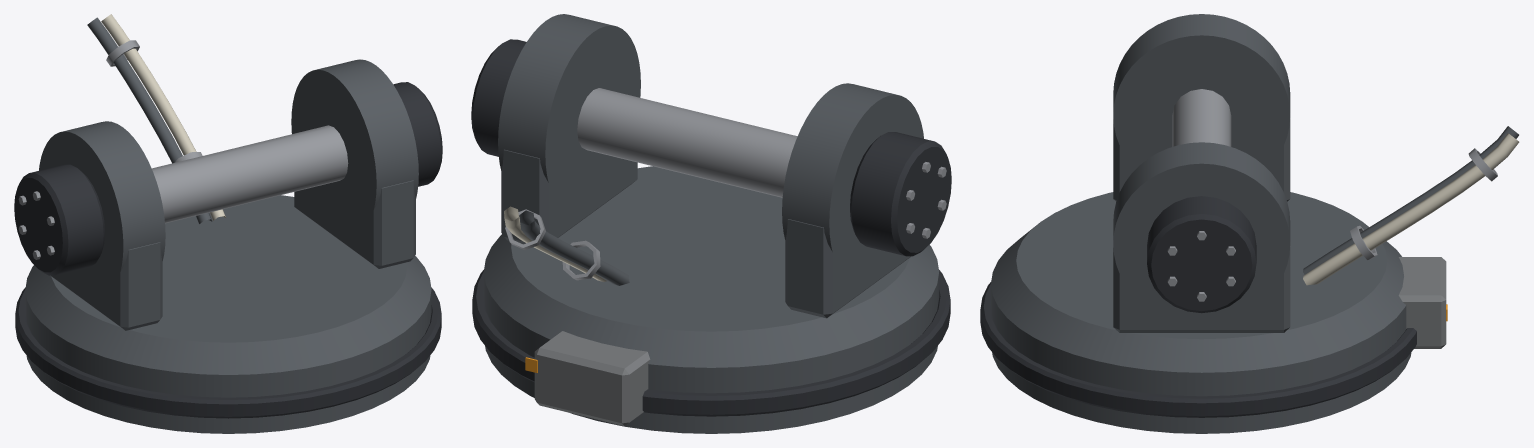
File: pd1_mount.obj
3 views of the same model, side by side, from view 1: azimuth 30°, elevation 25°; view 2: azimuth 150°, elevation 25°; view 3: azimuth 270°, elevation 25° (orthographic). The views are drawn at different scales.
Visible parts, largest first — view 1: pd1_mount; view 2: pd1_mount; view 3: pd1_mount.
Part boxes in pixels (x1,y1,x2,y2): pd1_mount: (14,14,442,433); pd1_mount: (471,14,951,433); pd1_mount: (980,14,1519,433).
Bounding box in the file's own units: 1.1 × 0.67 × 1.28.
